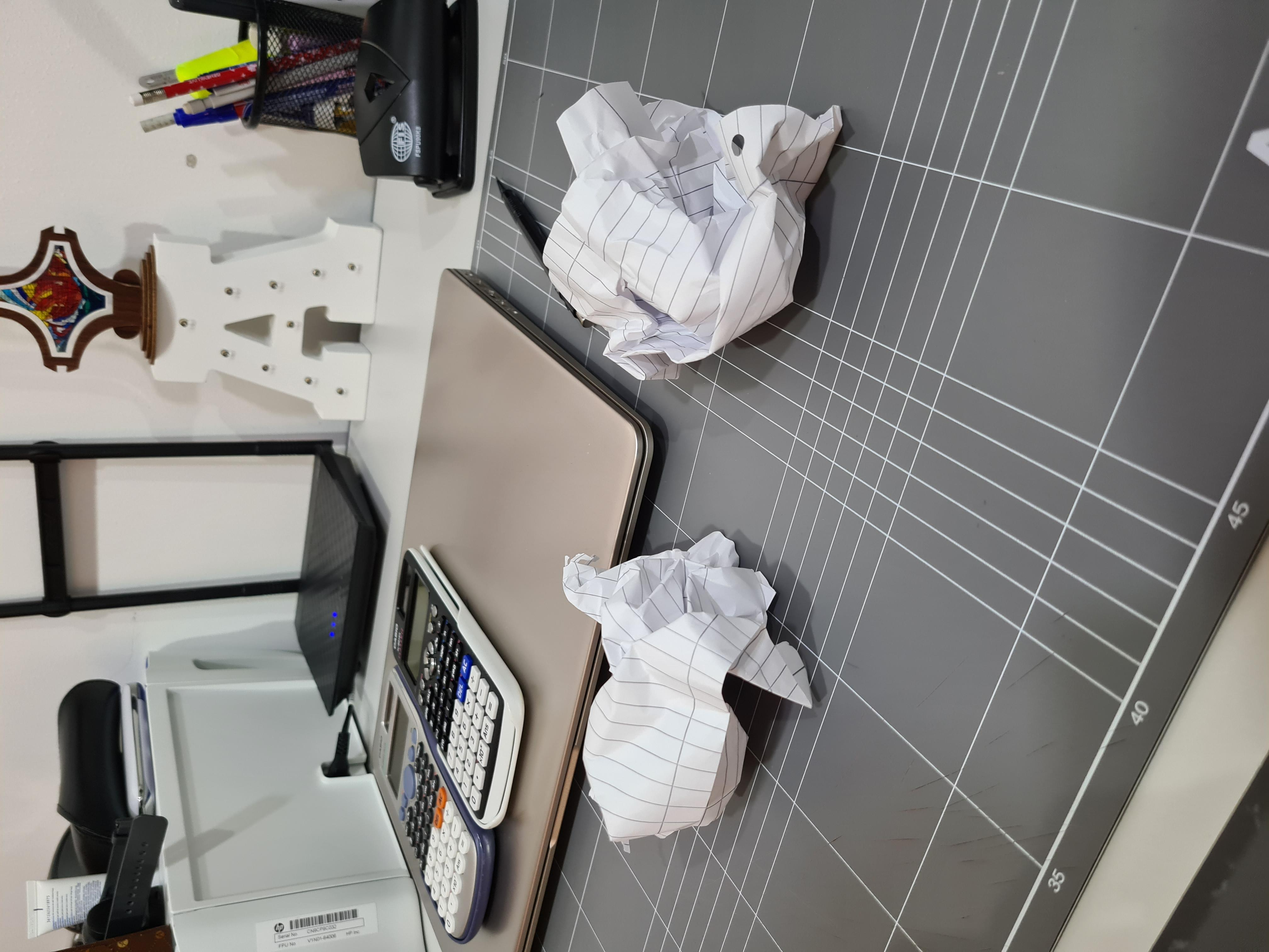paper: (765, 399, 1154, 643), (148, 409, 572, 605)
